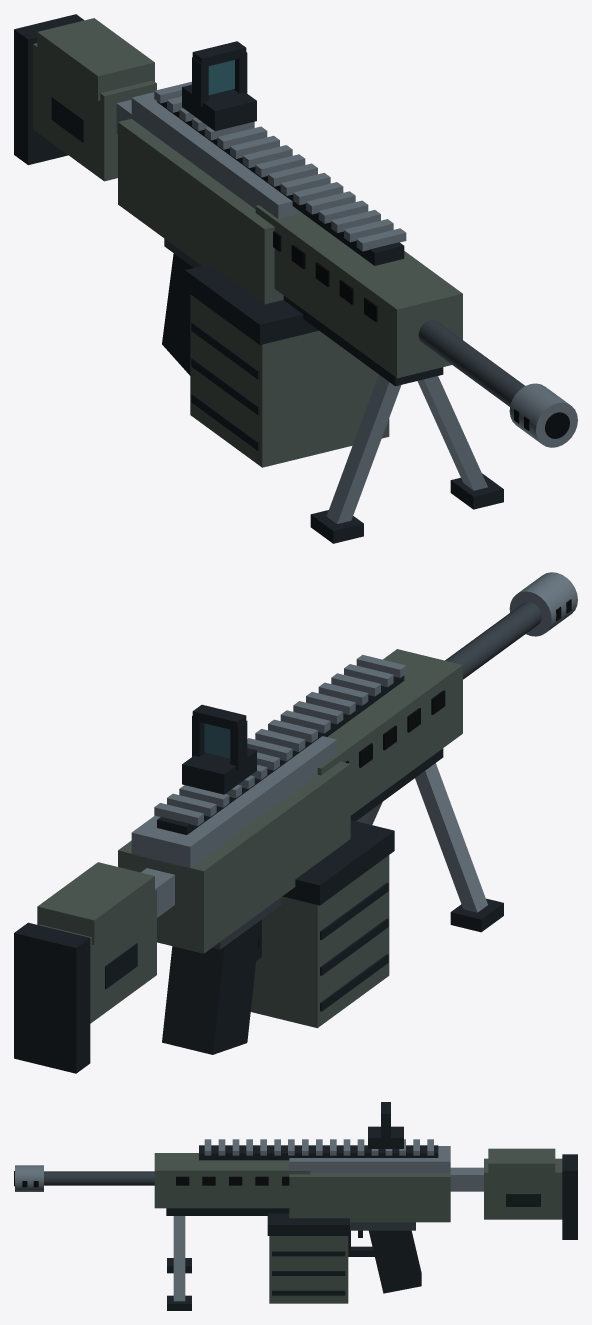
Rendered from FSA_WPN_LMG_001_Bastion.glb.
3 renders of one model, top to bottom at view 1: azimuth 30°, elevation 25°; view 2: azimuth 150°, elevation 25°; view 3: azimuth 270°, elevation 25°, orthographic. The views are drawn at different scales.
Visible parts, largest first — view 1: AmmoBox, Handguard, Receiver, StockBody, StockCheek, UpperReceiver, AmmoBoxLid, BipodLeg_-1, ButtPad, Barrel, BipodLeg_1, Muzzle (+14 smaller); view 2: Receiver, AmmoBox, Handguard, ButtPad, GripCore, UpperReceiver, StockCheek, StockBody, AmmoBoxLid, BipodLeg_-1, Barrel, Muzzle (+23 smaller); view 3: Receiver, Handguard, AmmoBox, StockBody, UpperReceiver, GripCore, RailBase, StockCheek, Barrel, AmmoBoxLid, ButtPad, BipodLeg_1 (+10 smaller).
Boxes of the visible parts, <box> form: AmmoBox: <box>190,294,389,467</box>; Handguard: <box>255,205,462,378</box>; Receiver: <box>118,118,283,304</box>; StockBody: <box>33,43,156,181</box>; StockCheek: <box>37,18,154,100</box>; UpperReceiver: <box>131,92,301,218</box>; AmmoBoxLid: <box>185,264,318,344</box>; BipodLeg_-1: <box>326,374,401,523</box>; ButtPad: <box>14,14,83,165</box>; Barrel: <box>418,320,524,406</box>; BipodLeg_1: <box>417,376,487,490</box>; Muzzle: <box>509,383,577,447</box>; Receiver: <box>118,761,350,953</box>; AmmoBox: <box>250,855,389,1028</box>; Handguard: <box>317,649,462,815</box>; ButtPad: <box>14,922,90,1073</box>; GripCore: <box>162,920,260,1054</box>; UpperReceiver: <box>131,736,336,868</box>; StockCheek: <box>37,862,154,944</box>; StockBody: <box>39,889,156,1023</box>; AmmoBoxLid: <box>282,820,394,905</box>; BipodLeg_-1: <box>415,763,487,912</box>; Barrel: <box>445,602,541,679</box>; Muzzle: <box>509,572,577,636</box>; Receiver: <box>289,1173,450,1222</box>; Handguard: <box>154,1153,310,1208</box>; AmmoBox: <box>269,1236,348,1303</box>; StockBody: <box>484,1158,562,1219</box>; UpperReceiver: <box>289,1146,450,1173</box>; GripCore: <box>369,1230,421,1293</box>; RailBase: <box>199,1145,438,1160</box>; StockCheek: <box>488,1148,555,1177</box>; Barrel: <box>44,1171,154,1185</box>; AmmoBoxLid: <box>267,1213,349,1235</box>; ButtPad: <box>562,1154,577,1239</box>; BipodLeg_1: <box>173,1216,185,1301</box>.
Size of the model in its own units: 0.195 by 0.357 by 1.01.
